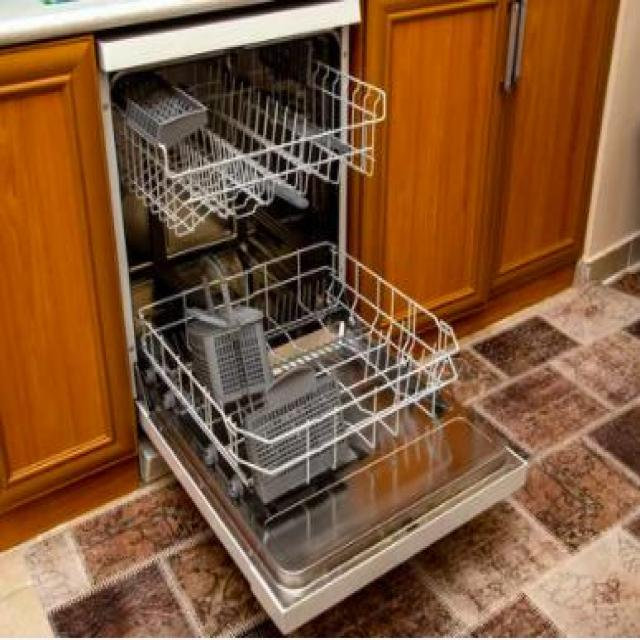dishwasher: (94, 24, 534, 640)
